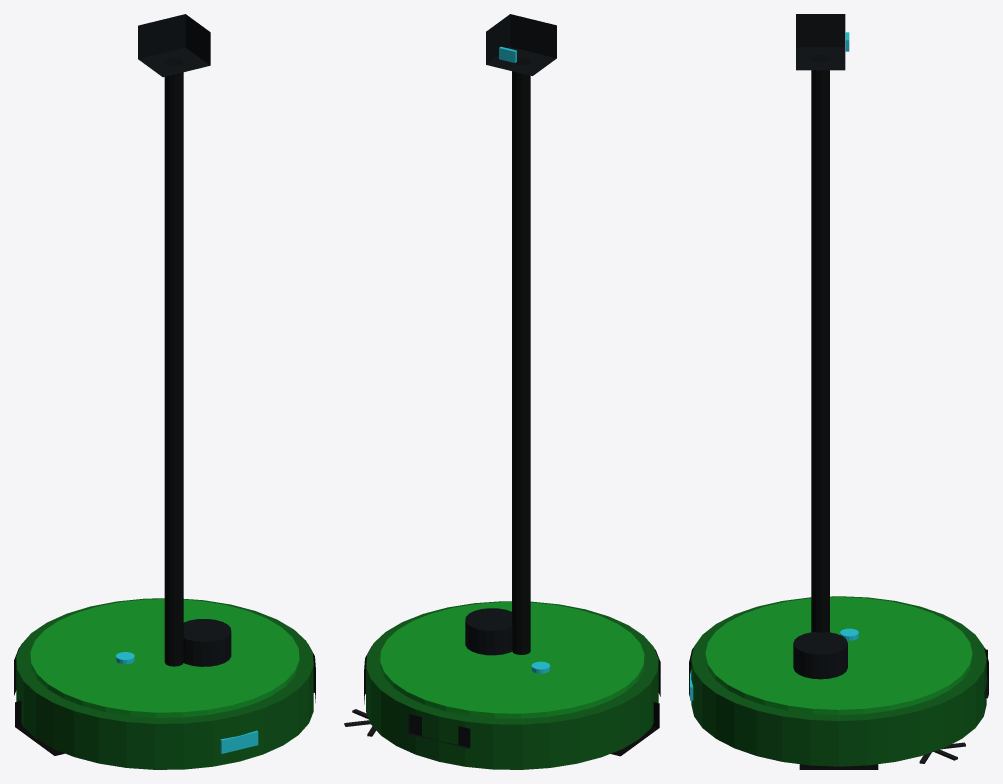
File: robot_green_h140.obj
3 renders of one model, left to right at view 1: azimuth 30°, elevation 25°; view 2: azimuth 150°, elevation 25°; view 3: azimuth 270°, elevation 25°, orthographic.
Visible parts, largest first — view 1: low_poly_robot_vacuum; view 2: low_poly_robot_vacuum; view 3: low_poly_robot_vacuum.
Part boxes in pixels (x1,y1,x2,y2): low_poly_robot_vacuum: (14,14,315,769); low_poly_robot_vacuum: (344,14,660,769); low_poly_robot_vacuum: (689,14,988,769).
Bounding box in the file's own units: 0.572 × 1.43 × 0.572.
